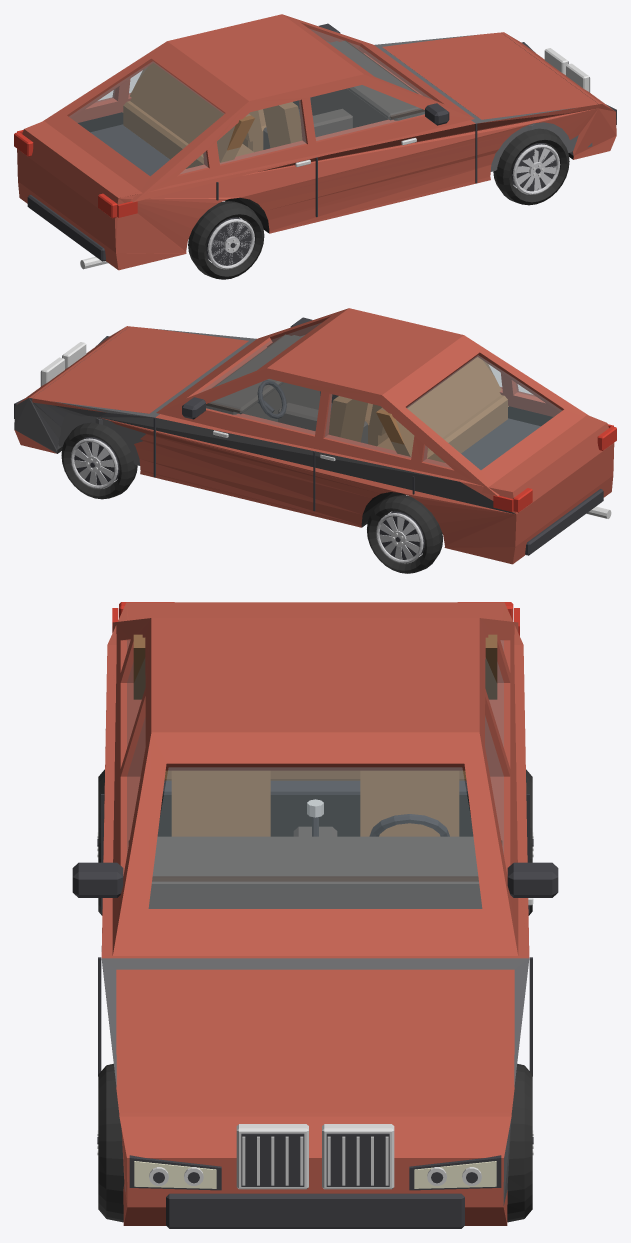
The model's file is dmw3.glb.
The picture shows the model from 3 angles, top to bottom: view 1: azimuth 30°, elevation 25°; view 2: azimuth 150°, elevation 25°; view 3: azimuth 270°, elevation 25°; orthographic projection. The views are drawn at different scales.
Visible parts, largest first — view 1: Body.005, Glass.005, Hood.005, Seat.005, Dark.005, Tire.005, Dash.005, Rim.005, Bay.005, Chrome.005, Well.005, Tail.005; view 2: Body.005, Glass.005, Hood.005, Bay.005, Seat.005, Dark.005, Tire.005, Dash.005, Rim.005, Chrome.005, Well.005, Tail.005; view 3: Body.005, Hood.005, Glass.005, Dark.005, Dash.005, Seat.005, Tire.005, Bay.005, Chrome.005, Well.005, Headlight.005.
Part boxes in pixels (<box>): Body.005: <box>17,14,616,270</box>; Glass.005: <box>69,29,431,175</box>; Hood.005: <box>382,32,598,119</box>; Seat.005: <box>122,63,302,168</box>; Dark.005: <box>27,23,616,265</box>; Tire.005: <box>188,128,569,279</box>; Dash.005: <box>263,40,424,149</box>; Rim.005: <box>207,144,560,269</box>; Bay.005: <box>374,34,597,171</box>; Chrome.005: <box>80,48,603,269</box>; Well.005: <box>78,100,573,233</box>; Tail.005: <box>14,130,137,218</box>; Body.005: <box>14,308,614,564</box>; Glass.005: <box>199,323,561,469</box>; Hood.005: <box>32,326,248,413</box>; Bay.005: <box>14,327,515,514</box>; Seat.005: <box>328,357,508,462</box>; Dark.005: <box>14,317,603,559</box>; Tire.005: <box>61,422,442,573</box>; Dash.005: <box>206,334,367,443</box>; Rim.005: <box>70,438,423,563</box>; Chrome.005: <box>27,342,611,544</box>; Well.005: <box>57,394,553,527</box>; Tail.005: <box>493,424,616,512</box>; Body.005: <box>101,602,529,1225</box>; Hood.005: <box>116,969,514,1112</box>; Glass.005: <box>127,640,503,908</box>; Dark.005: <box>72,780,558,1228</box>; Dash.005: <box>128,826,502,908</box>; Seat.005: <box>133,634,497,836</box>; Tire.005: <box>98,769,532,1222</box>; Bay.005: <box>101,958,529,1205</box>; Chrome.005: <box>97,799,533,1189</box>; Well.005: <box>157,795,473,836</box>; Headlight.005: <box>134,1161,496,1188</box>.
Bounding box in the file's own units: 4.98 × 1.5 × 2.01.
